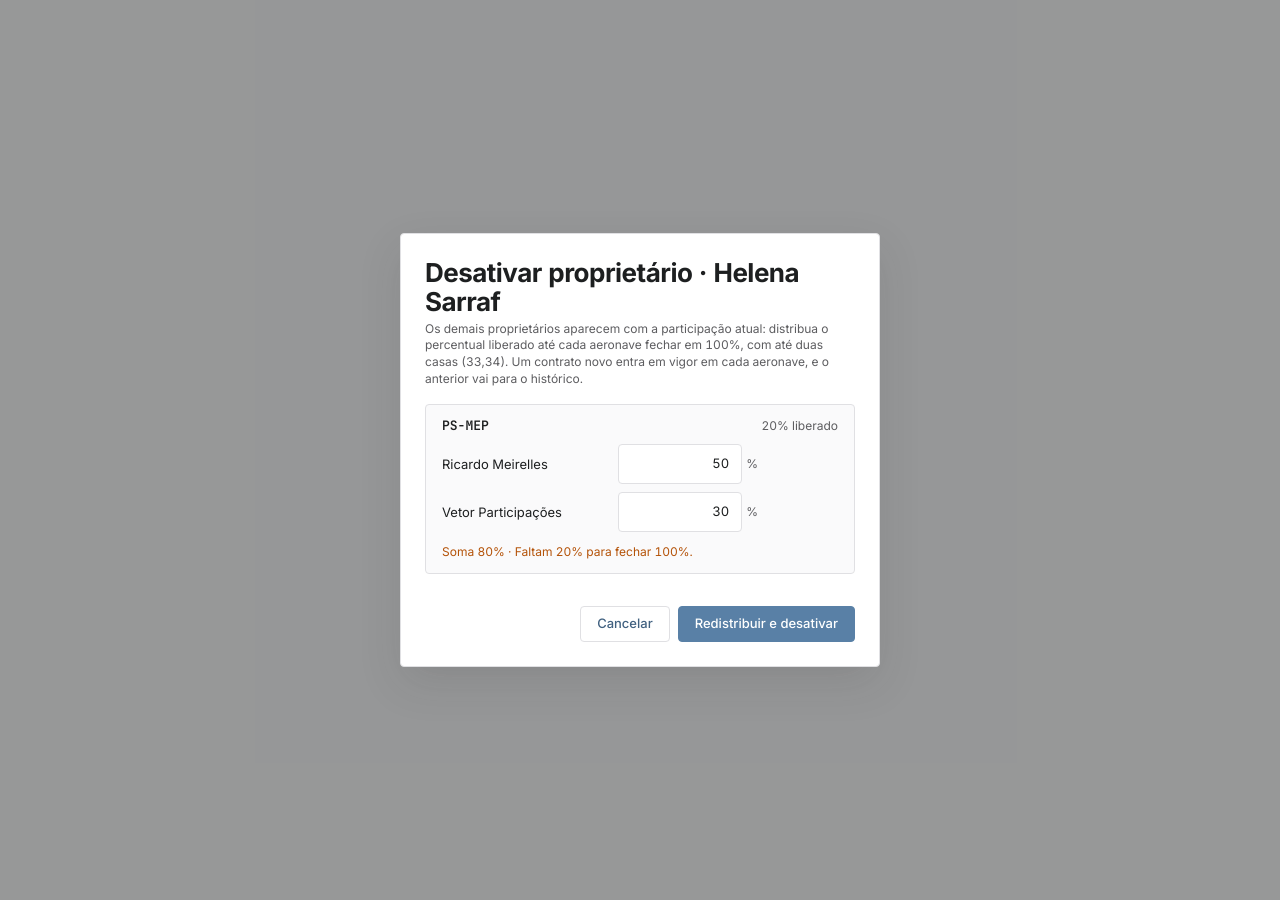
Test: PainelDeDesativacao › confirmar com um percentual vazio foca o campo e o resumo diz de quem é
Expected: the button "Redistribuir e desativar" is shown, x1=678 y1=606 x2=855 y2=642
Step 1. Clear the field next to "Vetor Participações" → (680, 512), box x1=618 y1=492 x2=742 y2=532
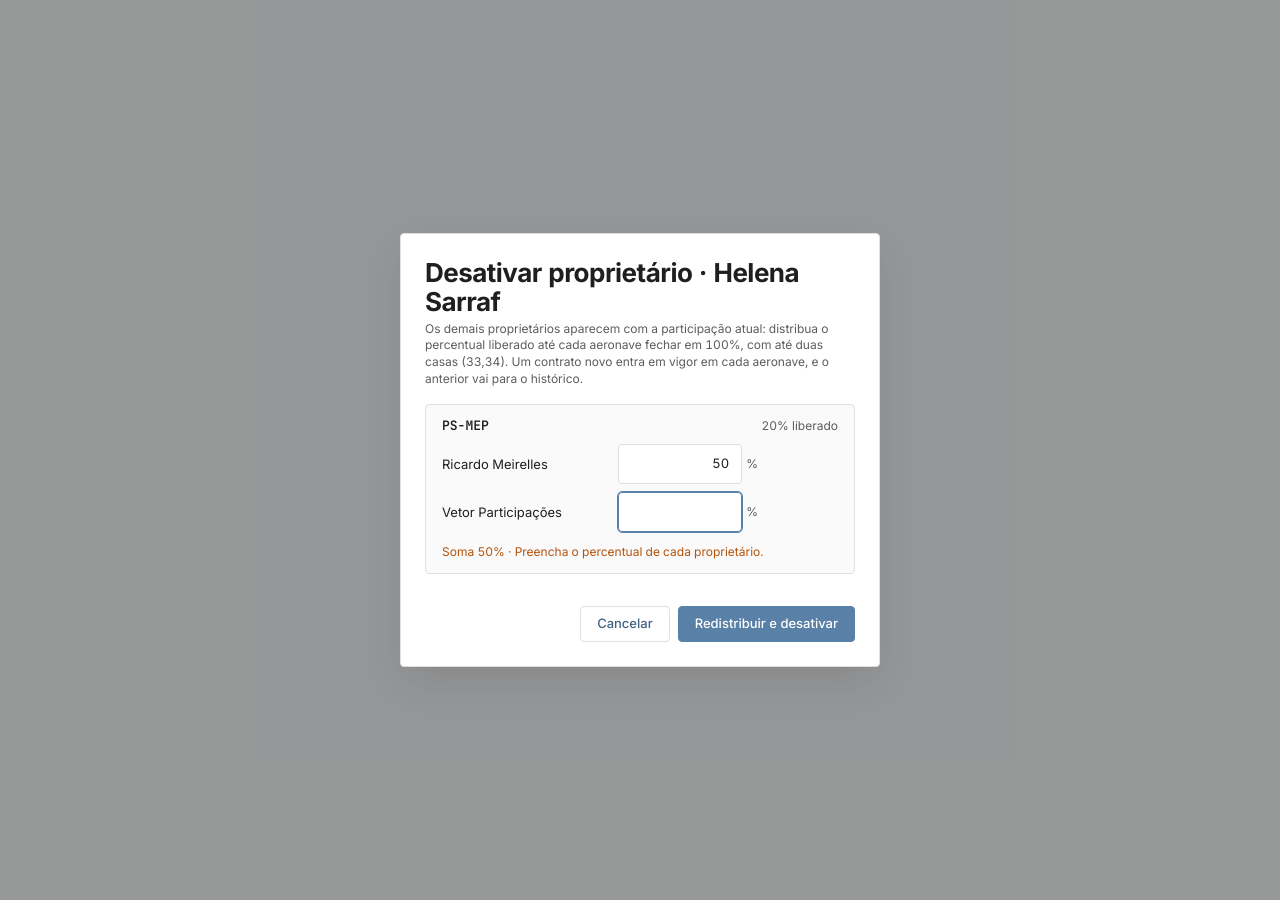
Step 2. Click the button "Redistribuir e desativar" → (766, 624), box x1=678 y1=606 x2=855 y2=642
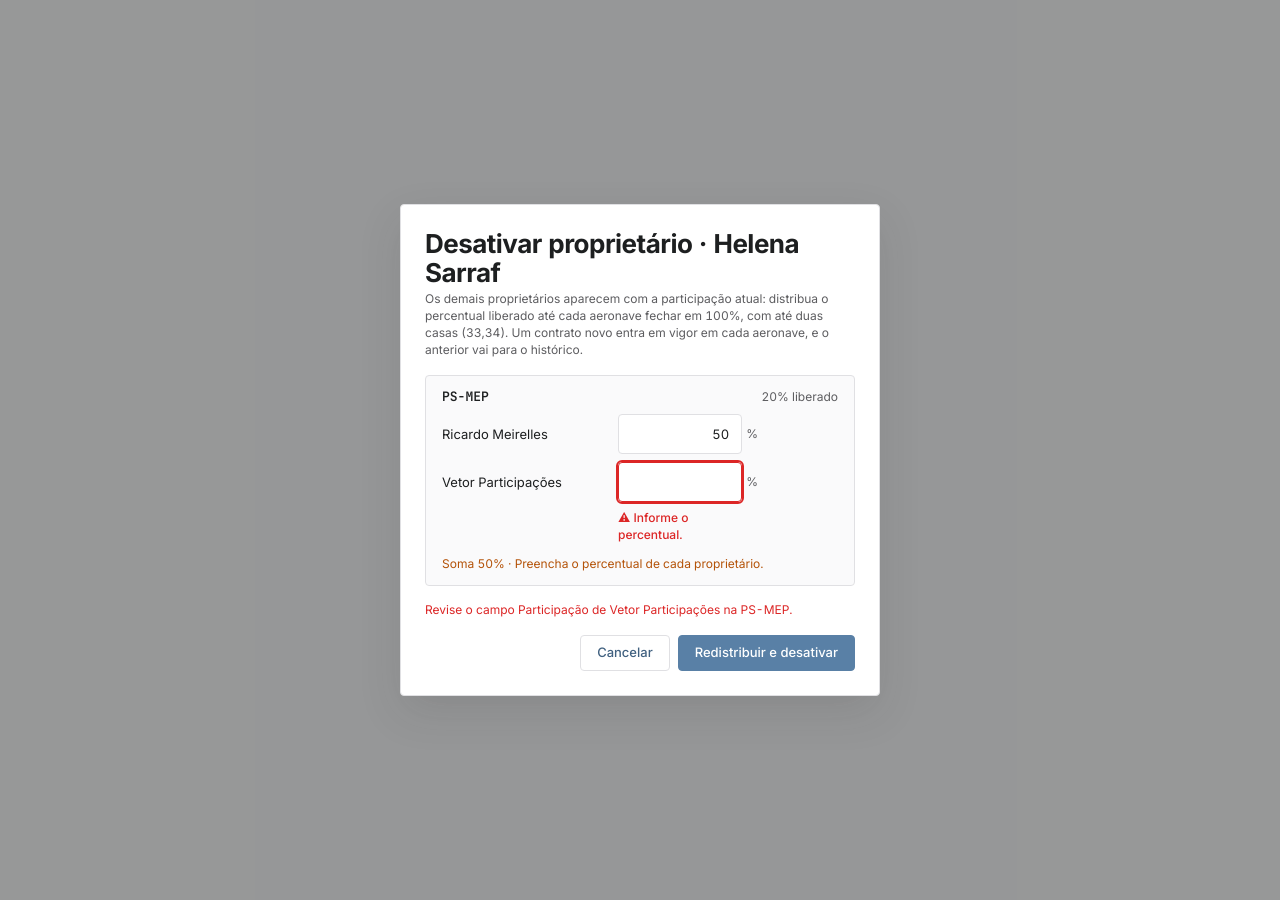
Now the message "Revise o campo Participação de Vetor Participações na PS-MEP." is shown, box x1=425 y1=602 x2=855 y2=619
